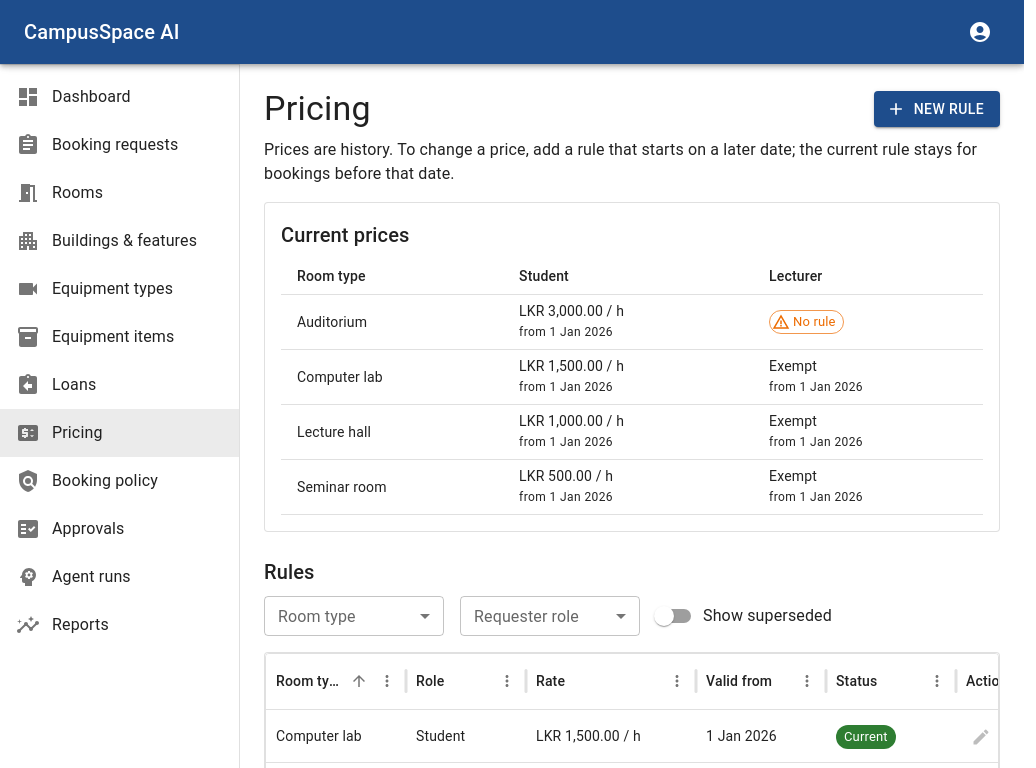
it: PricingPage › offers Edit and Delete only for scheduled rules and explains why otherwise
Hover over the 1st element named "Rules already in effect can't be changed. Add a new rule wit" at (981, 737), box [966,722,996,752]
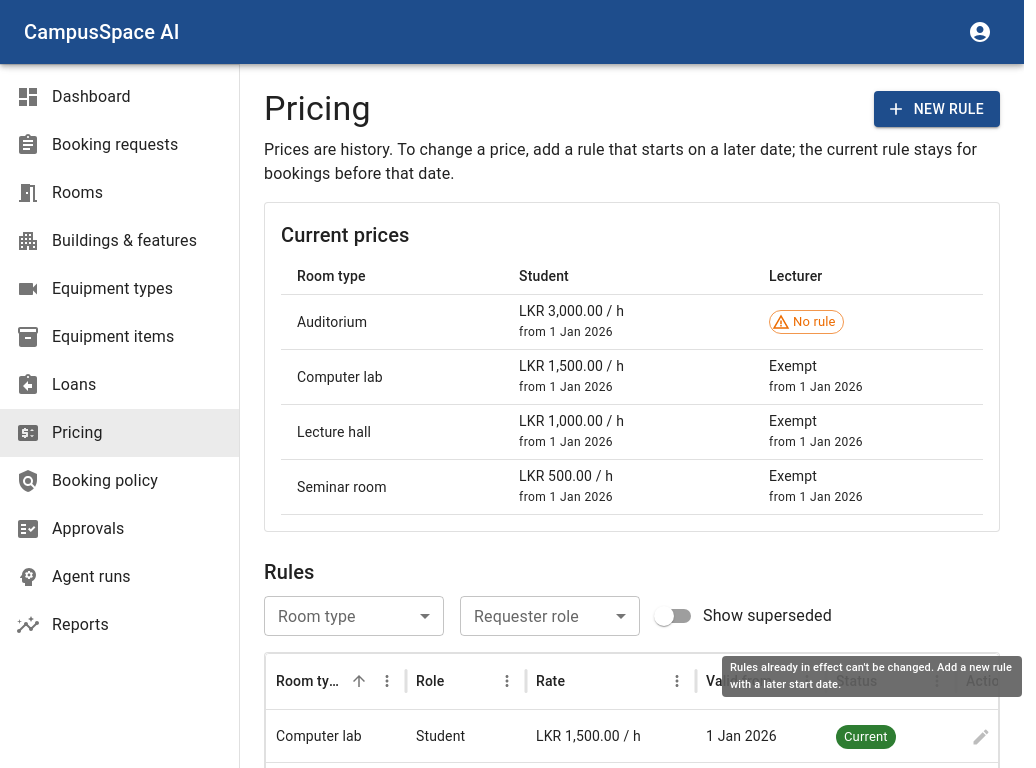
Now the tooltip shows "Rules already in effect can't be changed. Add a new rule with a later start date.", box [730,661,1012,690]
